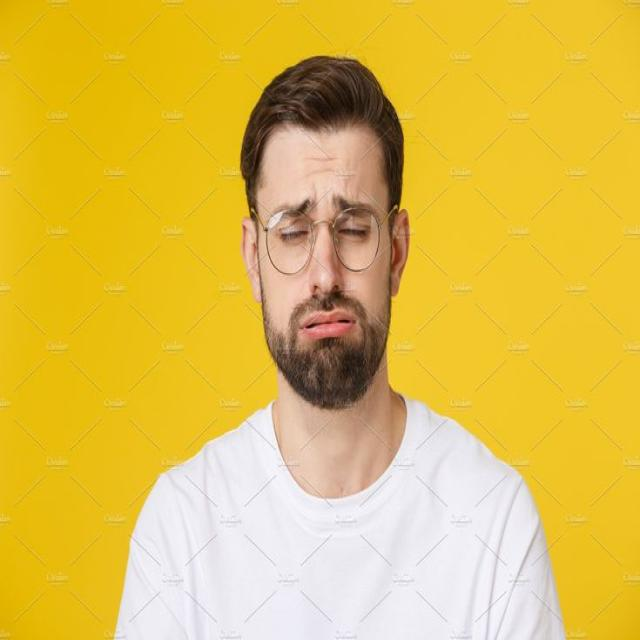sem_oculos: (235, 189, 405, 246)
